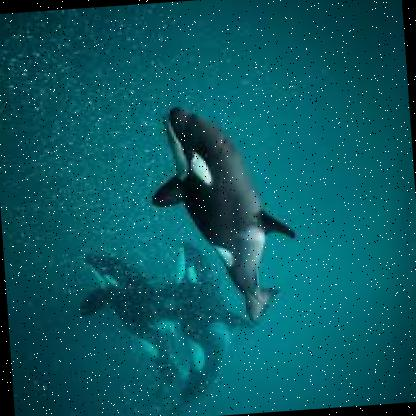killer_whale: (134, 84, 304, 340)
